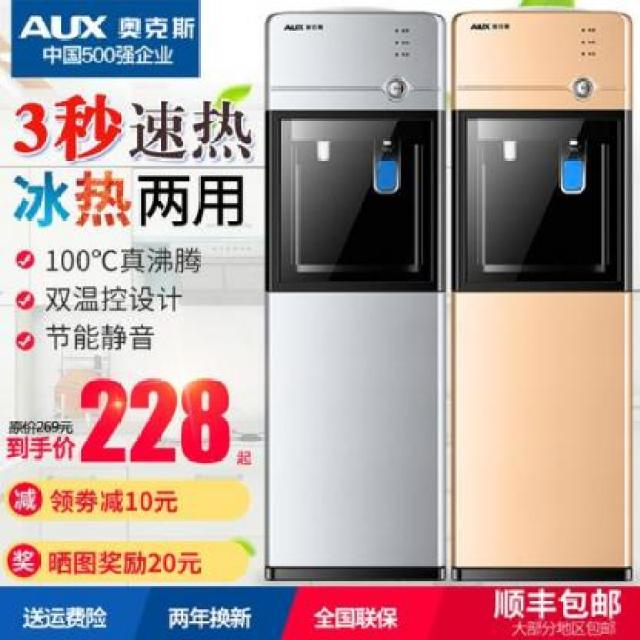cooler: (260, 5, 447, 586), (449, 6, 635, 585)
